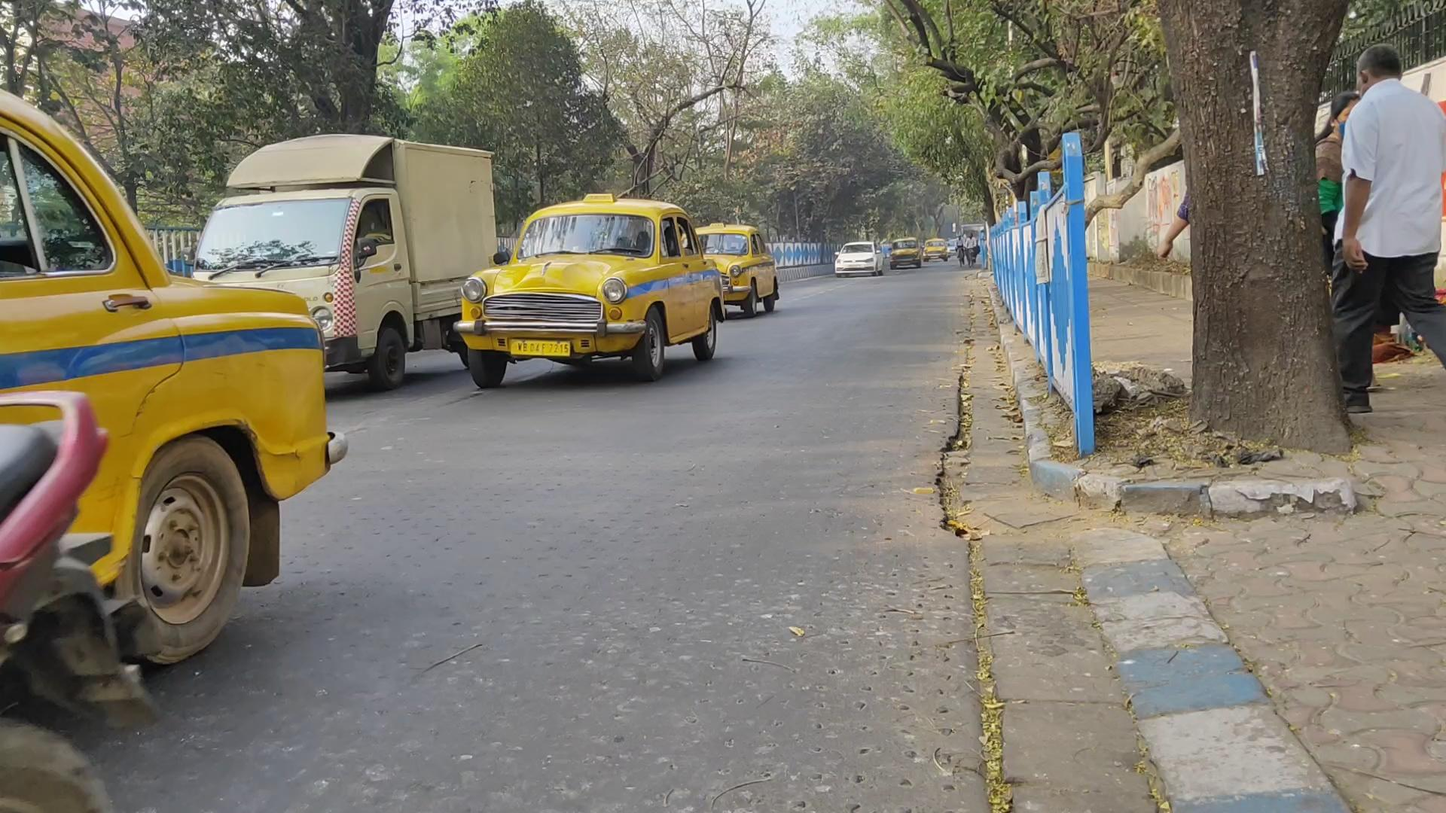bike: (965, 232, 978, 268), (955, 234, 966, 267)
car: (1, 81, 347, 730), (453, 192, 726, 388), (677, 222, 779, 319), (834, 240, 885, 279), (888, 237, 923, 269), (921, 237, 949, 263)
van: (190, 132, 498, 393)
